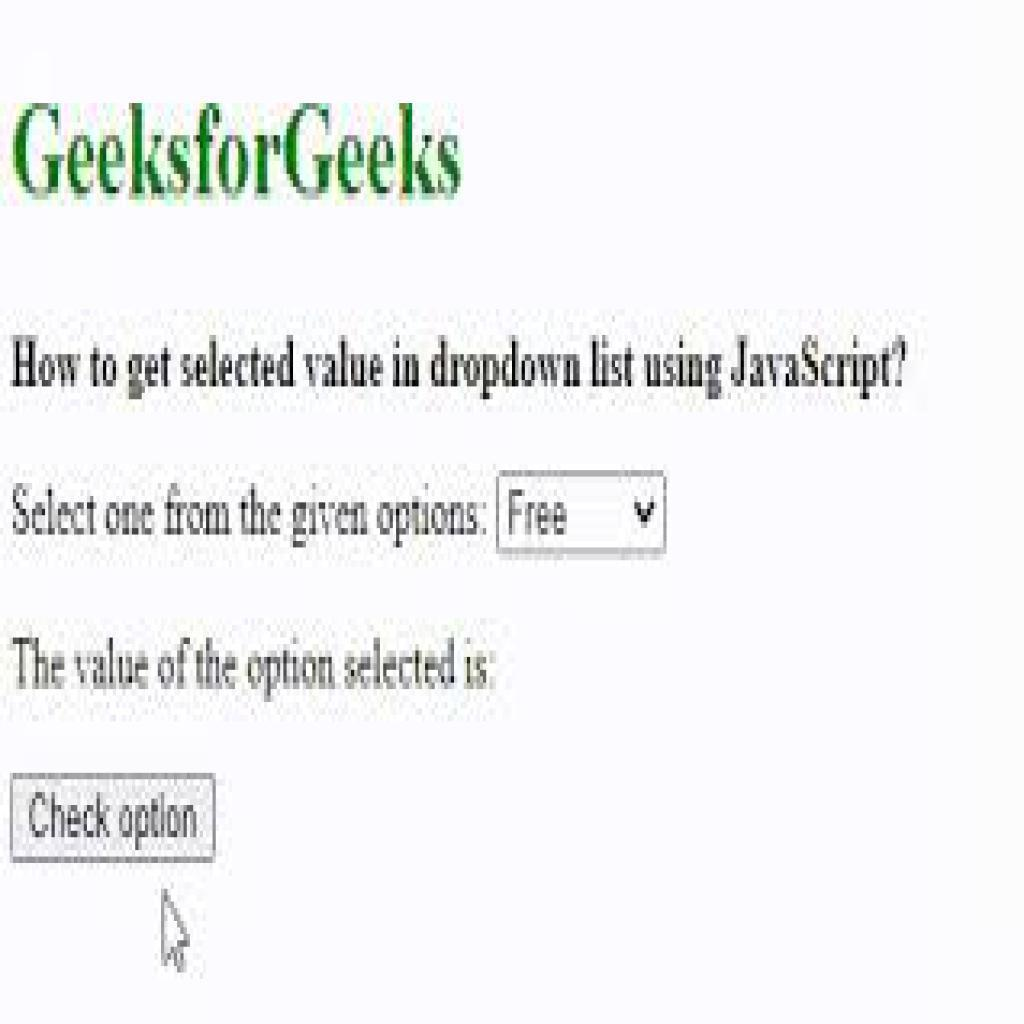button: (9, 771, 225, 871)
dropdown: (496, 472, 670, 557)
